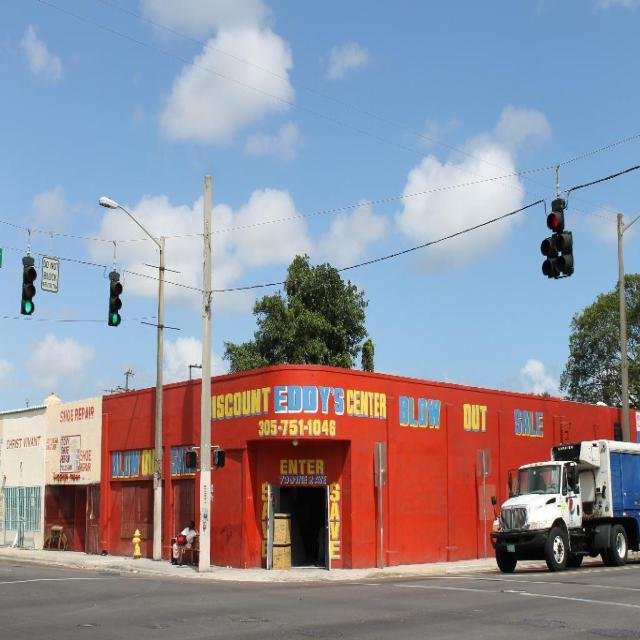traffic light: (542, 199, 574, 279), (20, 255, 38, 316), (107, 271, 123, 329)
